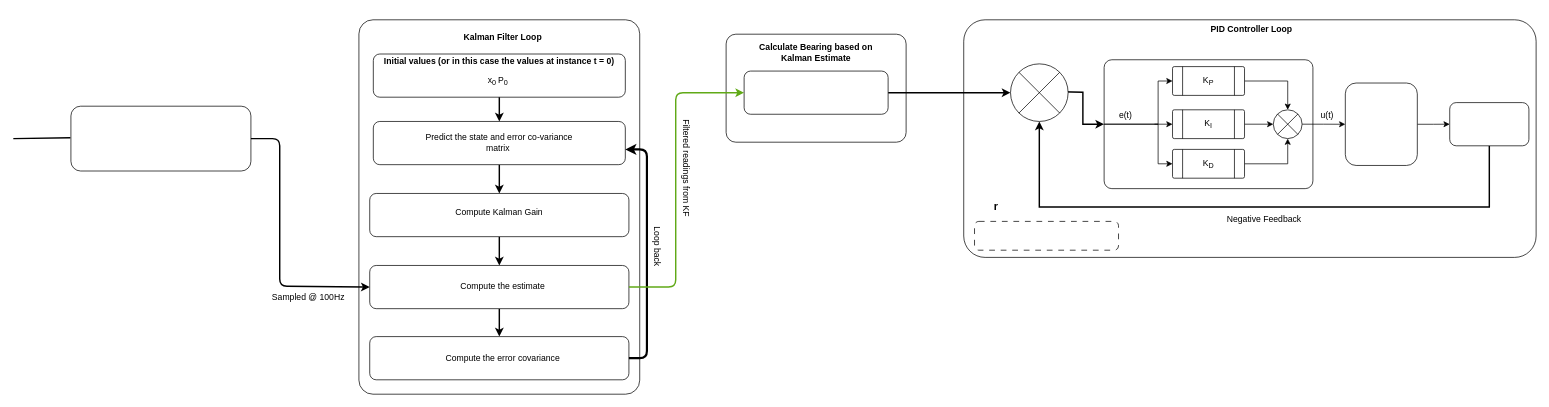
The diagram is 1549 pixels wide and 407 high, and some of its shapes have lost their labels. The centre of each missing label's shape, as x and y in pixels:
Compute distance and bearing to target from the estimated position.: (815,92)
Input variables ( These values will be true sensor readings): (160,138)
Output (y): (1489,124)
Target readings: (1046,235)
